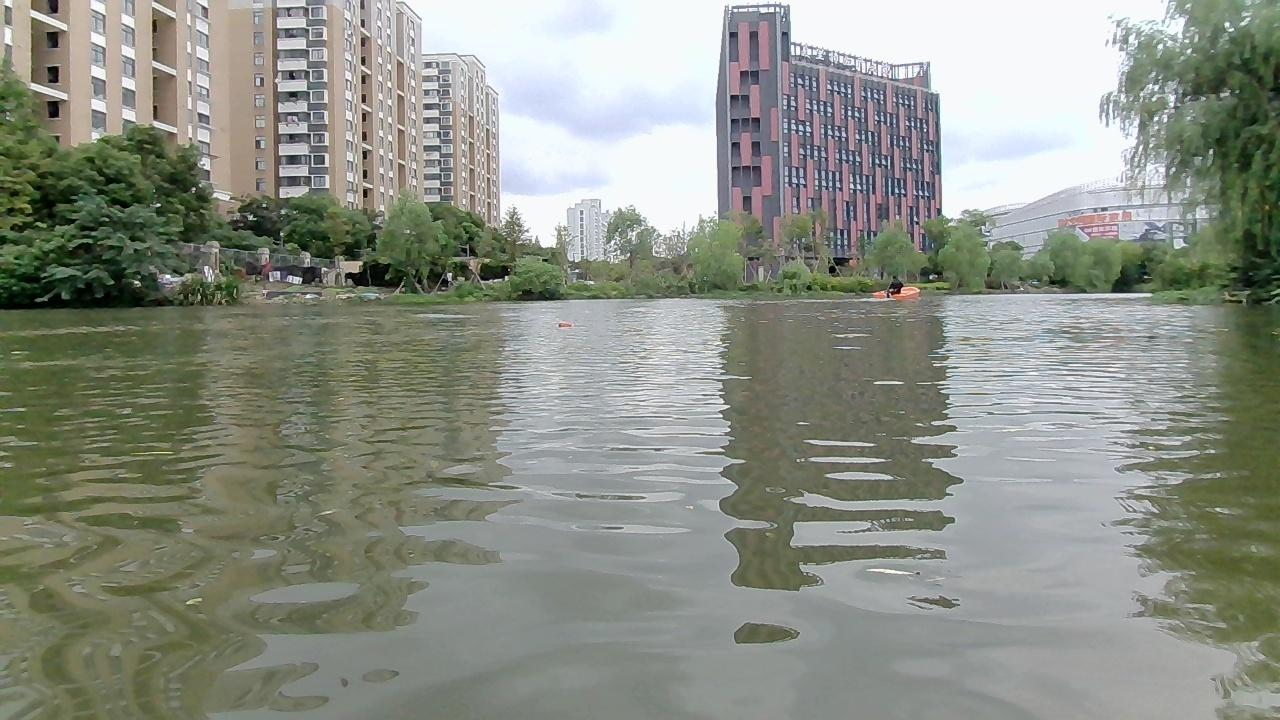bottle: (554, 319, 575, 330)
